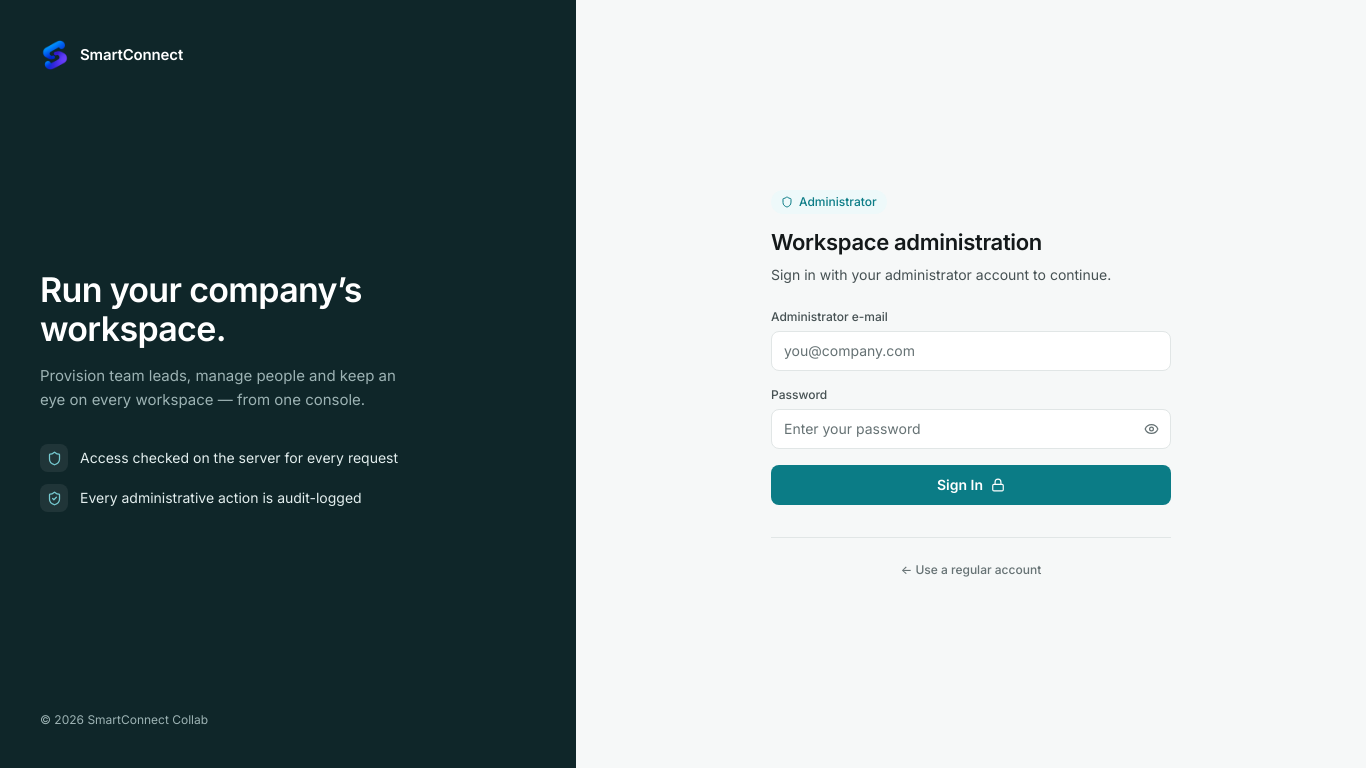
it: QA L39 — the Administrator console signs administrators in only › asks login() for an administrator and explains a refusal on the form
Expected: the heading "Workspace administration" is shown, top-left (771, 228), bottom-right (1042, 254)
Type "lead@acme.io" into the field labelled "Administrator e-mail" at (971, 350), box top-left (771, 330), bottom-right (1171, 370)
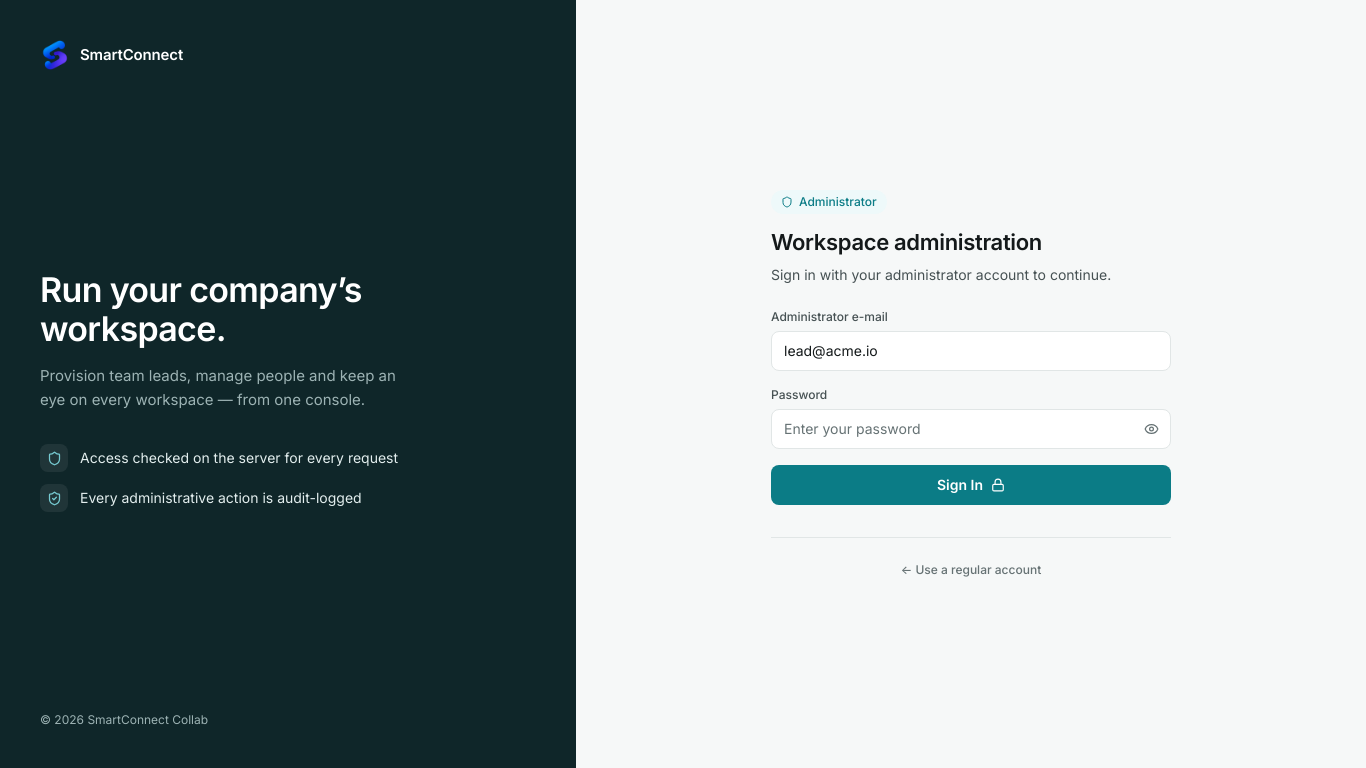
Type "secret-1" into the password field labelled "Password" at (971, 428), box top-left (771, 408), bottom-right (1171, 448)
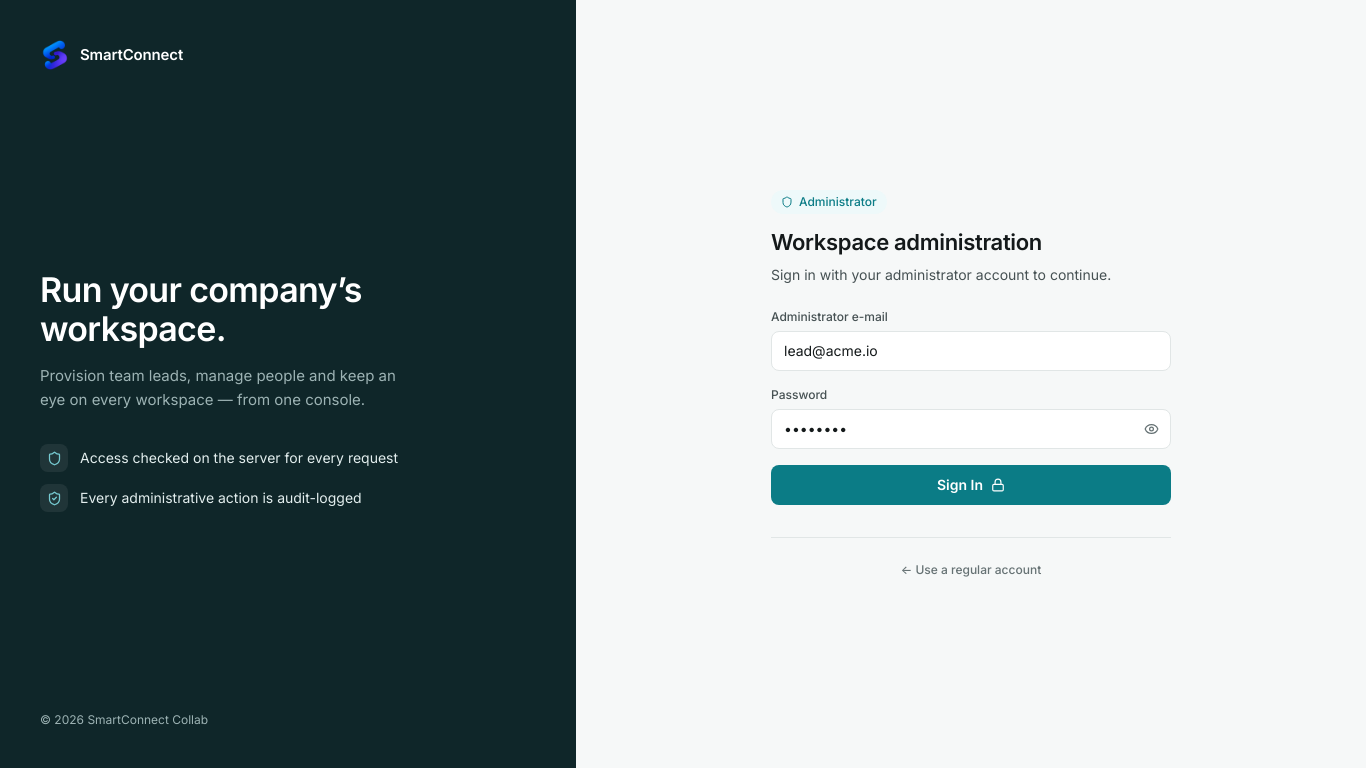
Click the button "Sign In" at (971, 484), box top-left (771, 464), bottom-right (1171, 504)
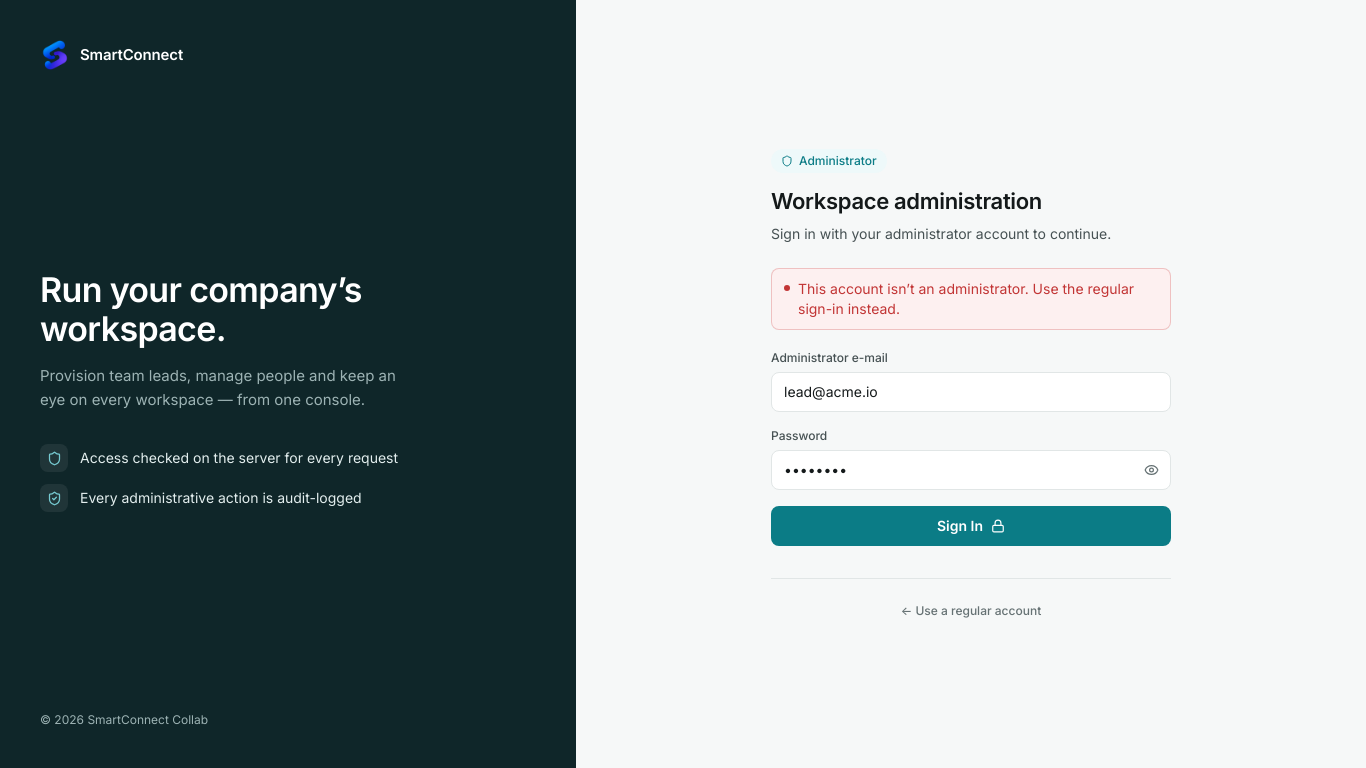
Expected: the message shows "isn’t an administrator", top-left (798, 280), bottom-right (1134, 316)
